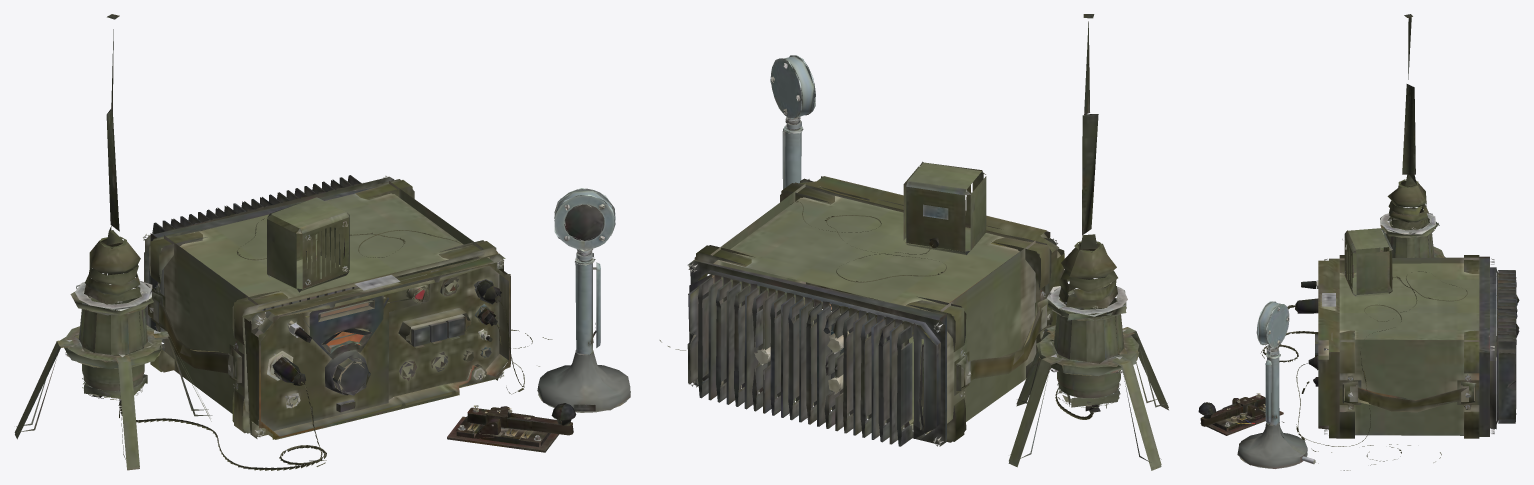
The model's file is vintage_radio_transceiver.glb.
3 renders of one model, left to right at view 1: azimuth 30°, elevation 25°; view 2: azimuth 150°, elevation 25°; view 3: azimuth 270°, elevation 25°, orthographic. The views are drawn at different scales.
Visible parts, largest first — view 1: vintage_radio_transceiver, vintage_radio_transceiver_antenna, vintage_radio_transceiver_microphone, vintage_radio_transceiver_speaker, vintage_radio_transceiver_morse_key_base, vintage_radio_transceiver_morse_key_arm, vintage_radio_transceiver_dial, vintage_radio_transceiver_cables; view 2: vintage_radio_transceiver, vintage_radio_transceiver_antenna, vintage_radio_transceiver_speaker, vintage_radio_transceiver_microphone, vintage_radio_transceiver_cables; view 3: vintage_radio_transceiver, vintage_radio_transceiver_microphone, vintage_radio_transceiver_antenna, vintage_radio_transceiver_speaker, vintage_radio_transceiver_morse_key_arm, vintage_radio_transceiver_morse_key_base, vintage_radio_transceiver_cables.
Part boxes in pixels (x1,y1,x2,y2): vintage_radio_transceiver: [143, 175, 510, 439]; vintage_radio_transceiver_antenna: [14, 14, 212, 470]; vintage_radio_transceiver_microphone: [537, 188, 630, 412]; vintage_radio_transceiver_speaker: [267, 197, 349, 292]; vintage_radio_transceiver_morse_key_base: [447, 406, 558, 452]; vintage_radio_transceiver_morse_key_arm: [467, 403, 576, 435]; vintage_radio_transceiver_dial: [325, 331, 370, 395]; vintage_radio_transceiver_cables: [119, 218, 552, 470]; vintage_radio_transceiver: [687, 176, 1064, 446]; vintage_radio_transceiver_antenna: [1008, 14, 1168, 470]; vintage_radio_transceiver_speaker: [903, 161, 986, 254]; vintage_radio_transceiver_microphone: [770, 55, 815, 189]; vintage_radio_transceiver_cables: [659, 201, 1106, 419]; vintage_radio_transceiver: [1318, 255, 1519, 438]; vintage_radio_transceiver_microphone: [1237, 301, 1315, 468]; vintage_radio_transceiver_antenna: [1380, 14, 1446, 257]; vintage_radio_transceiver_speaker: [1342, 228, 1392, 296]; vintage_radio_transceiver_morse_key_arm: [1198, 393, 1265, 426]; vintage_radio_transceiver_morse_key_base: [1200, 398, 1283, 435]; vintage_radio_transceiver_cables: [1260, 271, 1467, 470].
Size of the model in its own units: 0.5741 by 0.4402 by 0.4174.
Materials: 2 (2 with a texture image).
